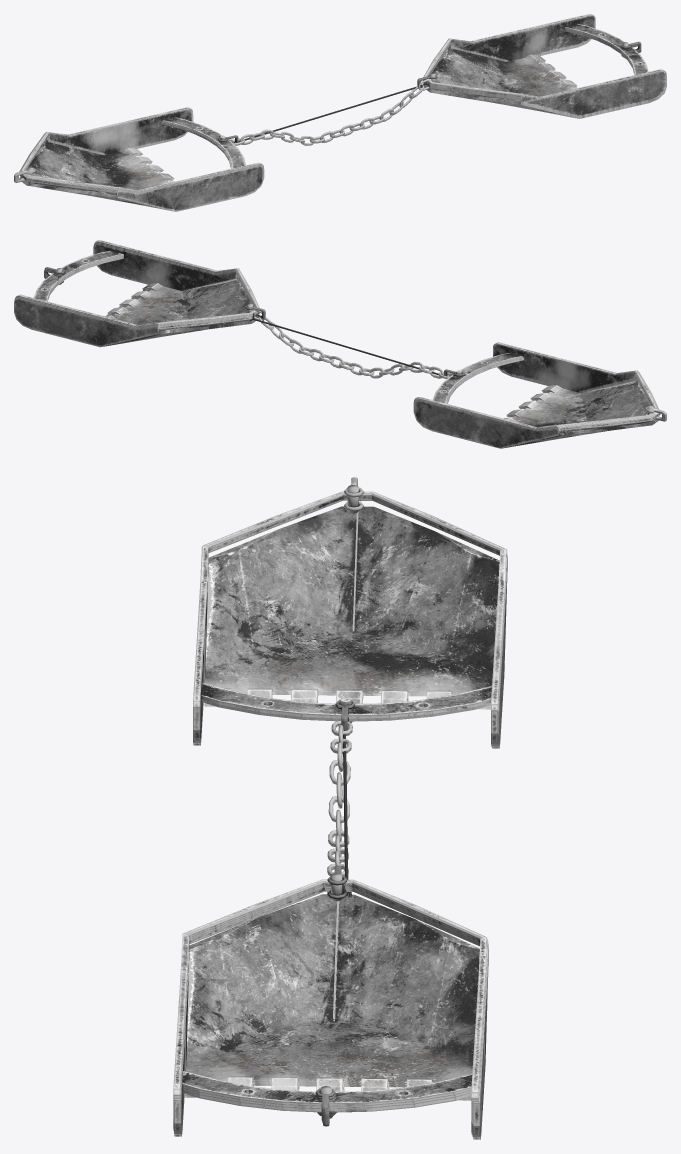
The model's file is Centre Gulley Scraper.fbx.
3 renders of one model, top to bottom at view 1: azimuth 30°, elevation 25°; view 2: azimuth 150°, elevation 25°; view 3: azimuth 270°, elevation 25°, orthographic. The views are drawn at different scales.
Visible parts, largest first — view 1: Centre_Gulley_Scraper, Scraper_001, Chain_Only_scrapers, BezierCurve; view 2: Centre_Gulley_Scraper, Scraper_001, Chain_Only_scrapers, BezierCurve; view 3: Centre_Gulley_Scraper, Scraper_001, Chain_Only_scrapers.
Boxes of the visible parts, x1,y1,x2,y2 form: Centre_Gulley_Scraper: (16, 14, 666, 195); Scraper_001: (14, 30, 666, 211); Chain_Only_scrapers: (15, 29, 666, 196); BezierCurve: (233, 79, 424, 143); Centre_Gulley_Scraper: (15, 240, 664, 433); Scraper_001: (14, 244, 666, 448); Chain_Only_scrapers: (14, 242, 665, 434); BezierCurve: (249, 313, 455, 375); Centre_Gulley_Scraper: (173, 477, 506, 1134); Scraper_001: (174, 493, 507, 1139); Chain_Only_scrapers: (173, 496, 506, 1136).
Size of the model in its own units: 552 by 37.18 by 129.
